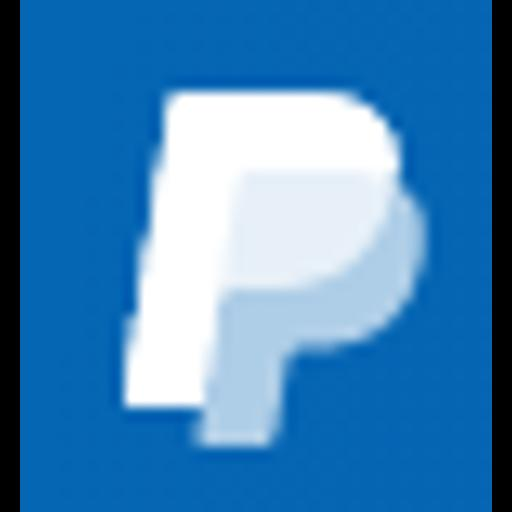PayPal: (20, 0, 492, 512)
